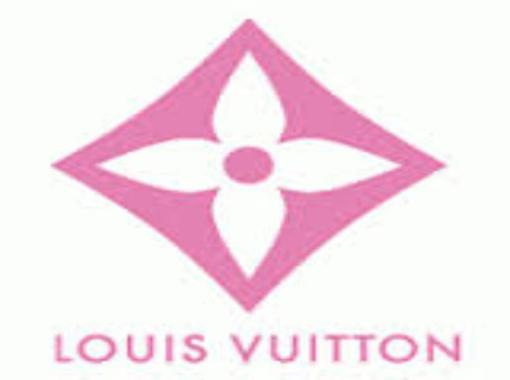LOUIS-VUITTON: (40, 328, 505, 380)
